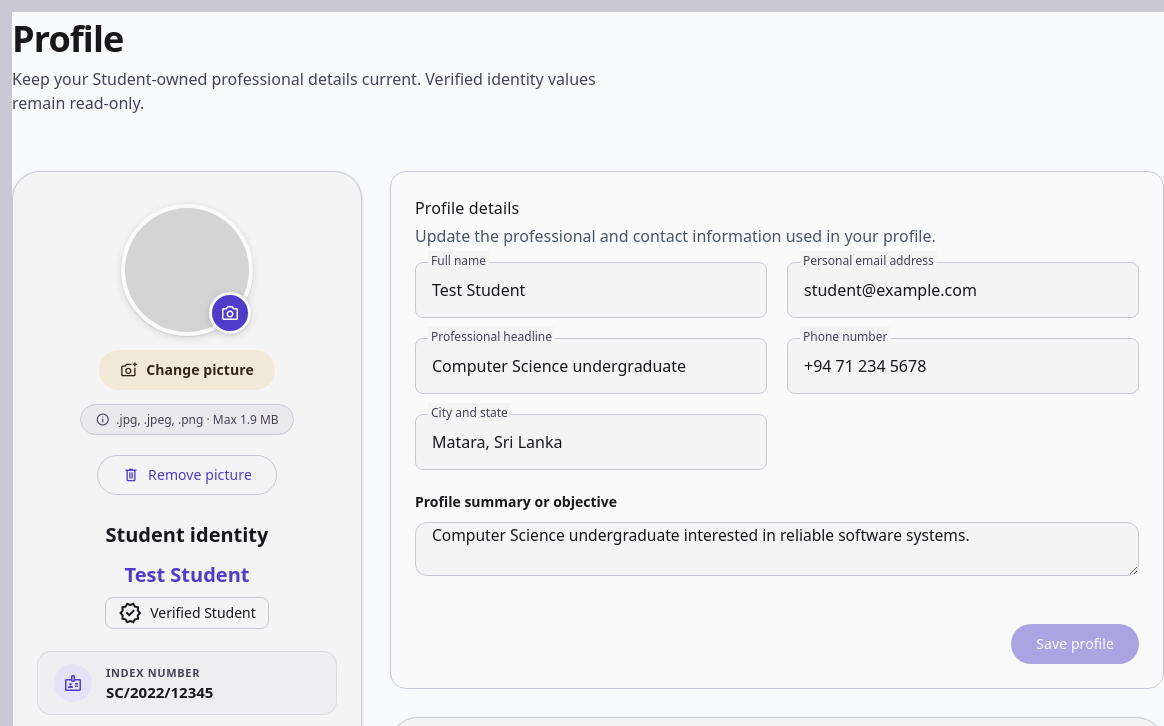
Test: StudentProfilePage › maps approved backend field errors and focuses the invalid field
Step 1. Clear the field labelled "Phone number" → x=963, y=366, box [804, 339, 1122, 393]
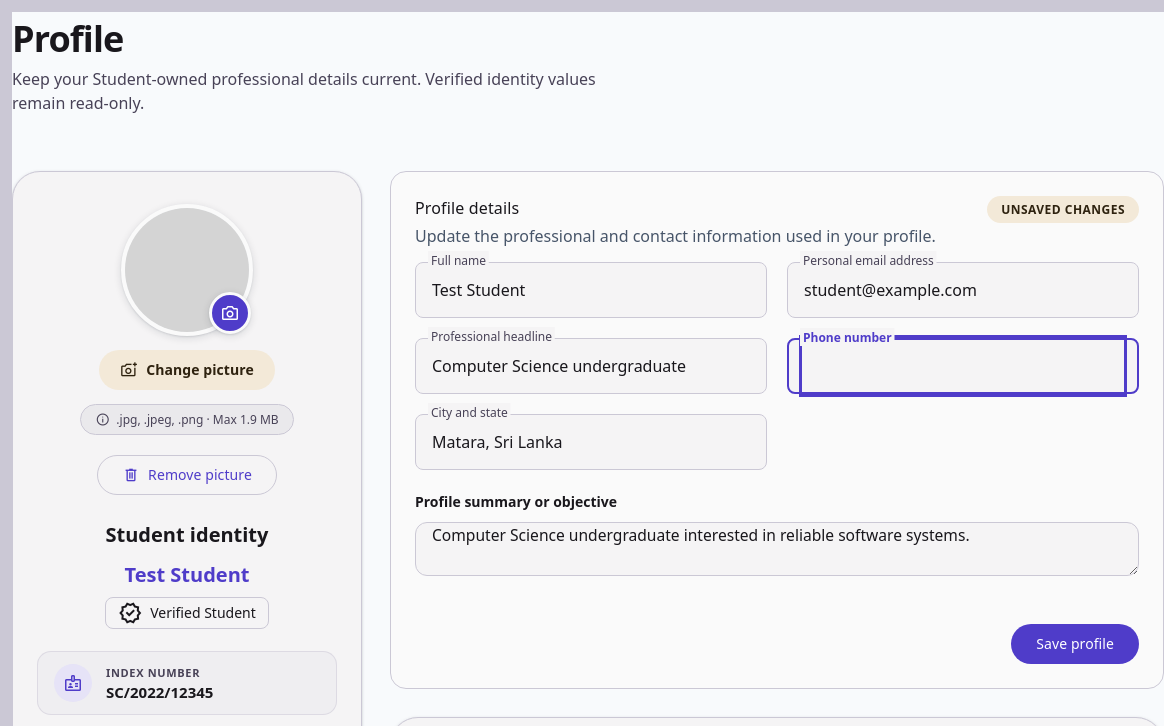
Step 2. Type "invalid" into the field labelled "Phone number" → x=963, y=366, box [804, 340, 1122, 392]
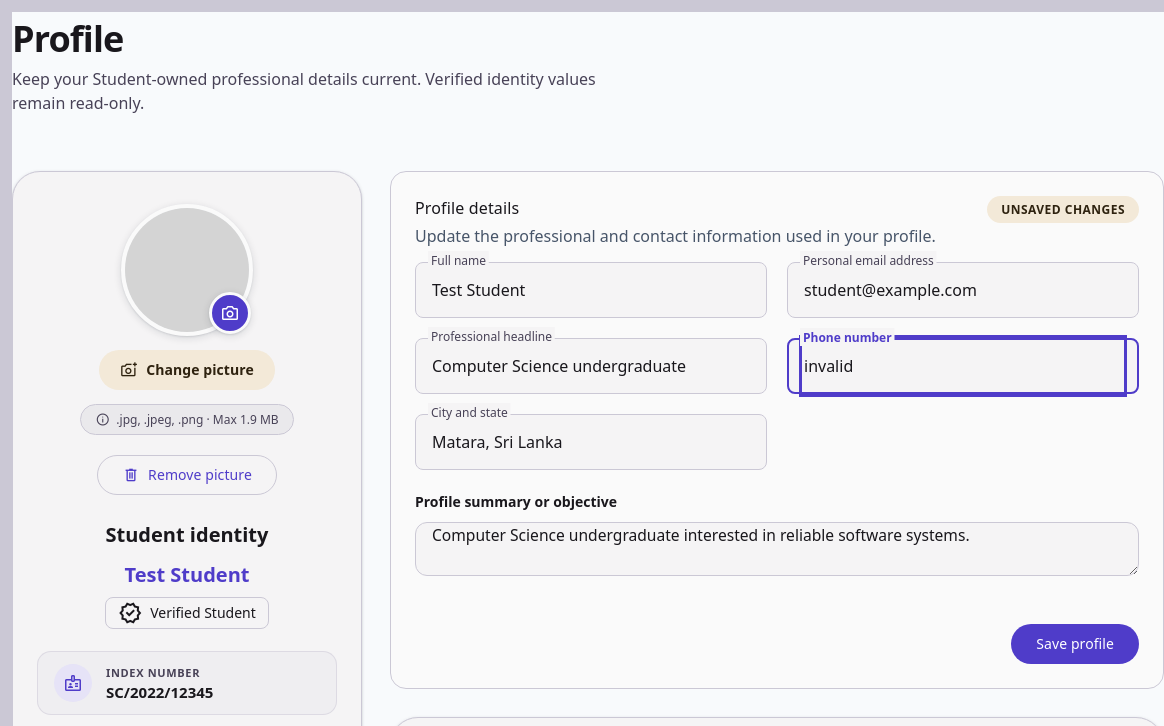
Step 3. Click the button "Save profile" → x=1075, y=644, box [1011, 624, 1139, 664]
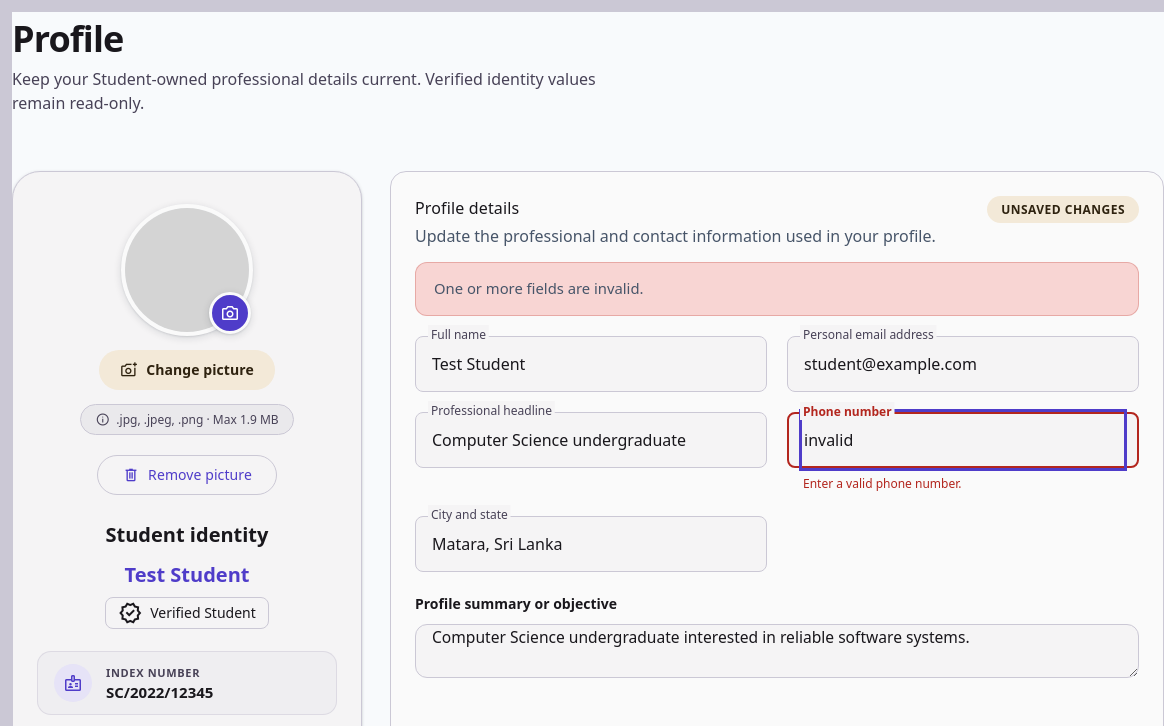
Now the text "Enter a valid phone number." is shown, box [803, 472, 962, 496]
